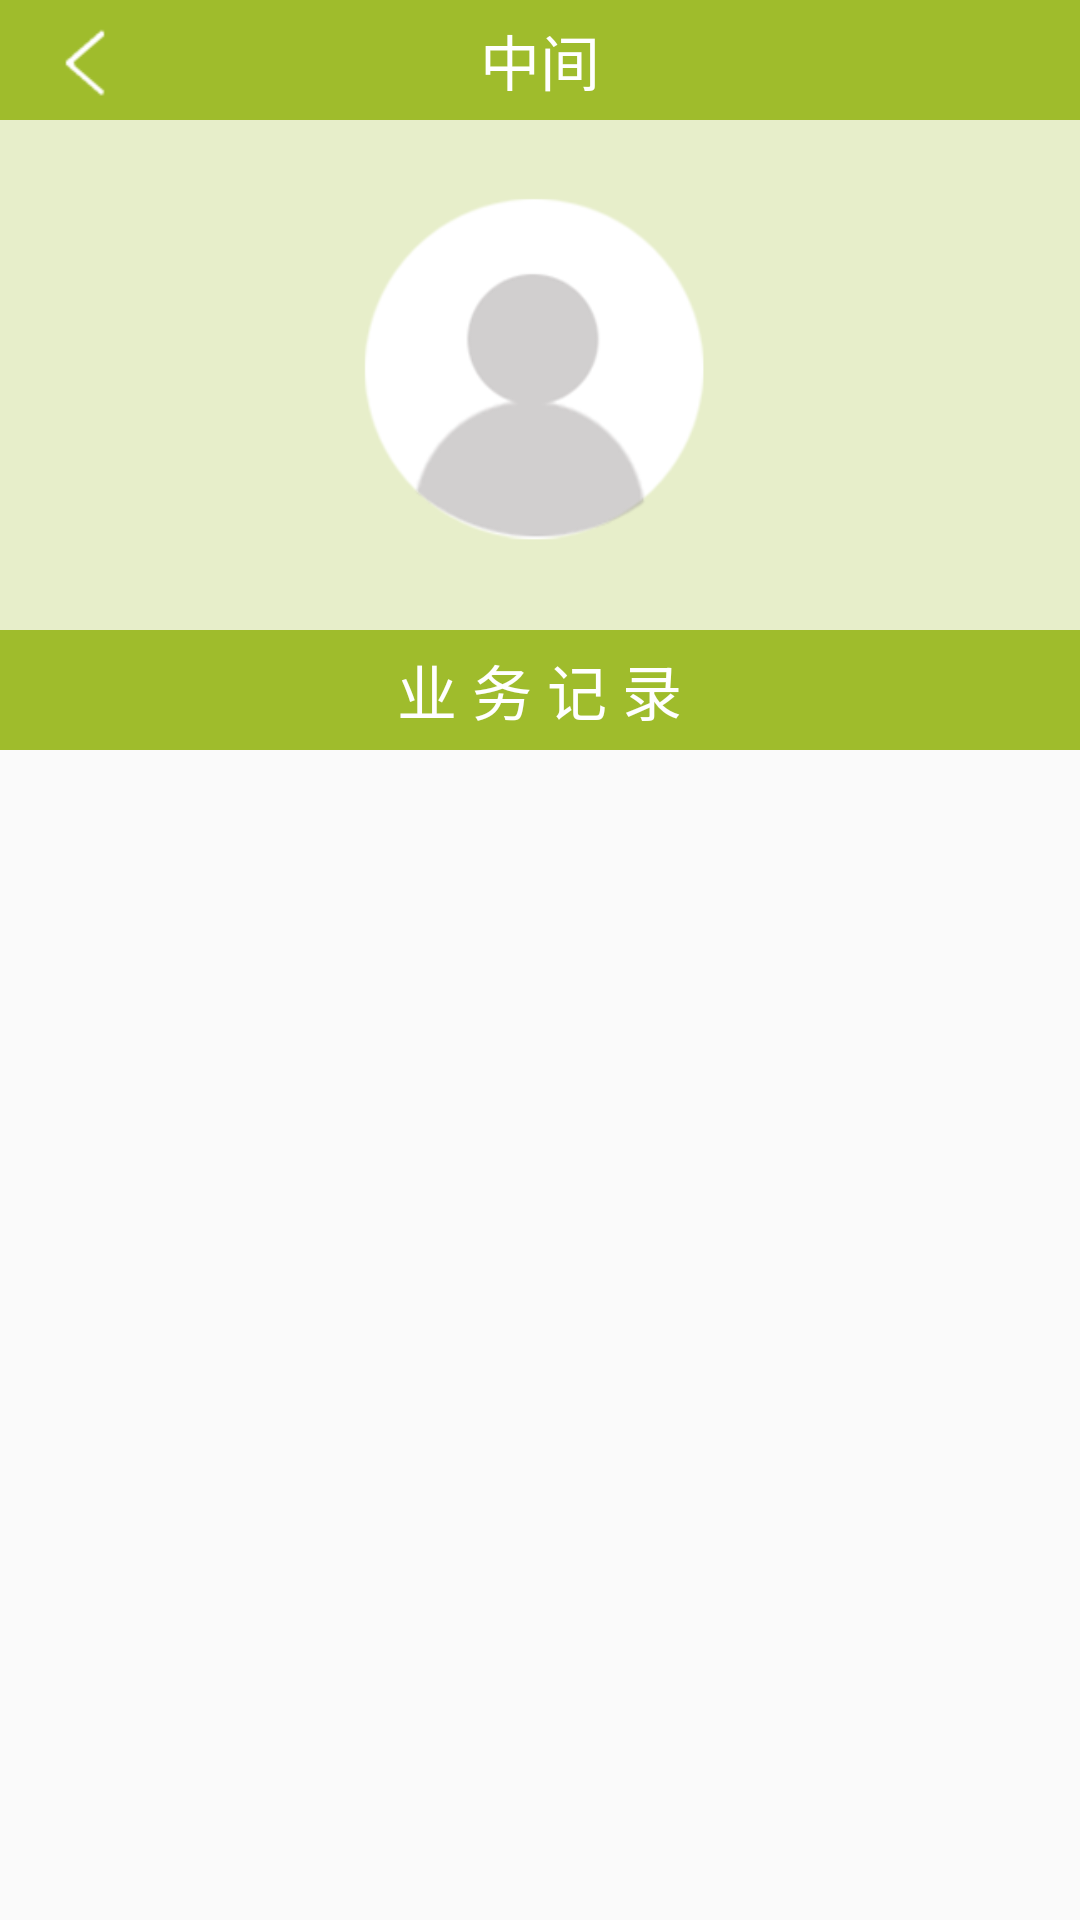

Named icons in this screenshot (1080x1920) and their centers, (x=x, y=y):
back to: (x=85, y=63)
headicon: (x=534, y=369)
